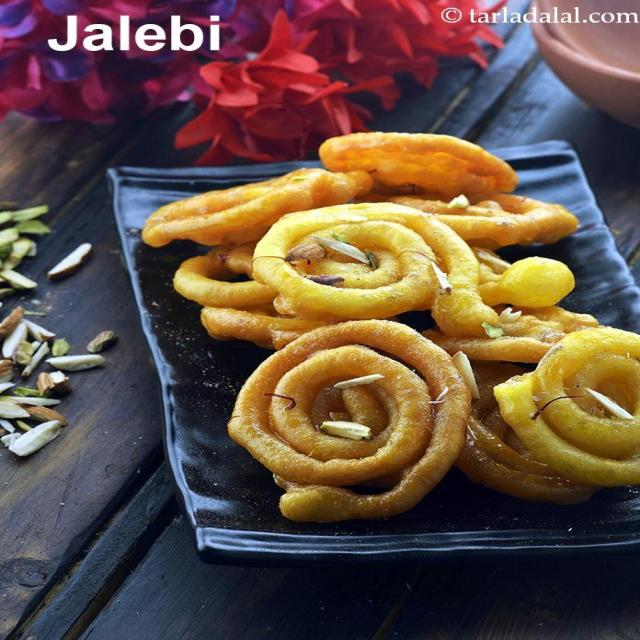jalebi: (161, 121, 640, 525)
